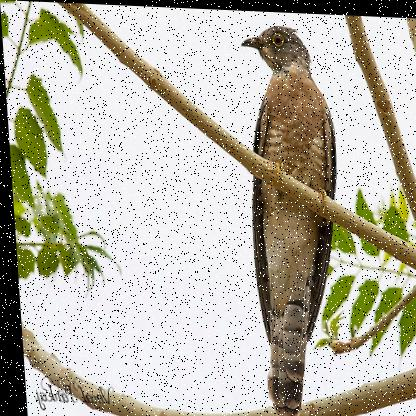Burung: (241, 21, 350, 415)
